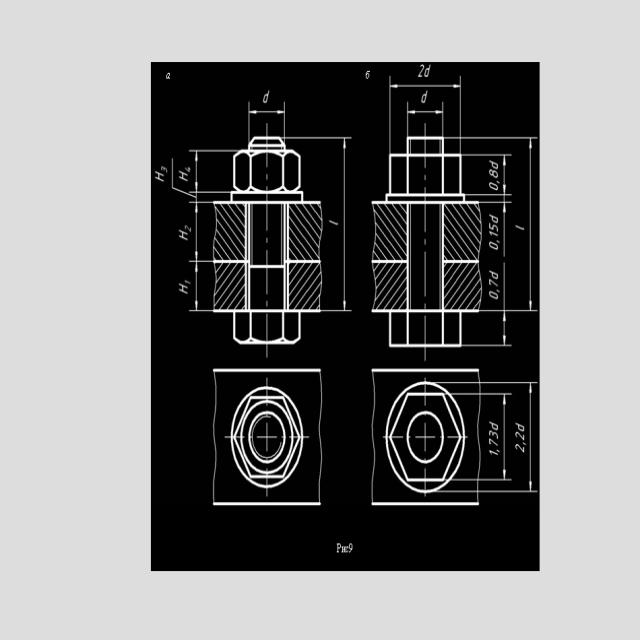marking_line: (525, 140, 535, 308), (501, 203, 508, 346), (342, 139, 347, 311), (527, 385, 534, 491), (502, 393, 510, 479), (388, 82, 464, 91), (193, 204, 200, 258), (500, 154, 508, 196), (406, 106, 443, 115), (192, 154, 200, 191), (250, 108, 284, 116), (194, 261, 198, 310)
numeric: (486, 420, 500, 459), (512, 423, 524, 456), (418, 66, 434, 78)
special_symbol: (169, 162, 196, 200)
